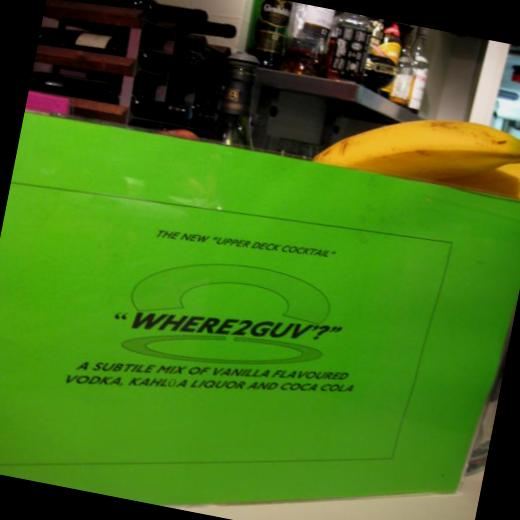Banana: (304, 79, 520, 201), (441, 143, 520, 201)
